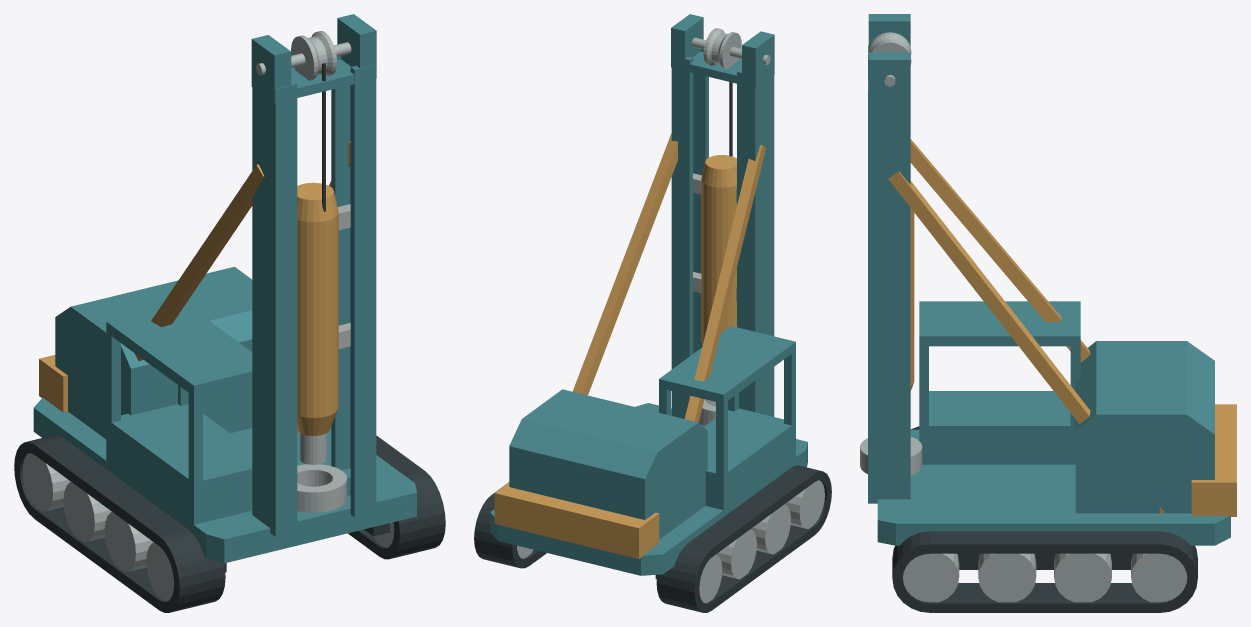
The picture shows the model from 3 angles, left to right: view 1: azimuth 30°, elevation 25°; view 2: azimuth 150°, elevation 25°; view 3: azimuth 270°, elevation 25°; orthographic projection. The views are drawn at different scales.
Visible parts, largest first — view 1: WholeSideCabShell, WholeChannelLeaderLeft, WholeChannelLeaderRight, WholeRearMachineryExterior, WholeContinuousTrackLeft, WholeLongCarrierDeck, WholeLongGuidedHammerExterior, WholeLeaderCrownFork, WholeContinuousTrackRight, WholeRearLeaderBraceLeft, WholeOpenLowerGuideCollar, WholeTrackRollerLeft1 (+6 smaller); view 2: WholeRearMachineryExterior, WholeSideCabShell, WholeChannelLeaderLeft, WholeChannelLeaderRight, WholeContinuousTrackLeft, WholeLowRearCounterbody, WholeLongCarrierDeck, WholeLongGuidedHammerExterior, WholeRearLeaderBraceRight, WholeRearLeaderBraceLeft, WholeLeaderCrownFork, WholeContinuousTrackRight (+5 smaller); view 3: WholeRearMachineryExterior, WholeSideCabShell, WholeChannelLeaderRight, WholeLongCarrierDeck, WholeContinuousTrackRight, WholeRearLeaderBraceRight, WholeRearLeaderBraceLeft, WholeLowRearCounterbody, WholeLeaderCrownFork, WholeTrackRollerRight1, WholeTrackRollerRight2, WholeTrackRollerRight0 (+5 smaller).
Part boxes in pixels (x1=…): WholeSideCabShell: x1=106, y1=304, x2=252, y2=524; WholeChannelLeaderLeft: x1=252, y1=81, x2=297, y2=536; WholeChannelLeaderRight: x1=331, y1=56, x2=376, y2=517; WholeRearMachineryExterior: x1=55, y1=266, x2=252, y2=439; WholeContinuousTrackLeft: x1=14, y1=435, x2=225, y2=612; WholeLongCarrierDeck: x1=33, y1=398, x2=416, y2=563; WholeLongGuidedHammerExterior: x1=297, y1=182, x2=338, y2=435; WholeLeaderCrownFork: x1=251, y1=14, x2=376, y2=103; WholeContinuousTrackRight: x1=348, y1=435, x2=445, y2=559; WholeRearLeaderBraceLeft: x1=134, y1=164, x2=264, y2=360; WholeOpenLowerGuideCollar: x1=297, y1=464, x2=346, y2=512; WholeTrackRollerLeft1: x1=104, y1=512, x2=153, y2=572; WholeRearMachineryExterior: x1=509, y1=389, x2=707, y2=539; WholeSideCabShell: x1=659, y1=326, x2=795, y2=512; WholeChannelLeaderLeft: x1=737, y1=69, x2=774, y2=416; WholeChannelLeaderRight: x1=671, y1=49, x2=708, y2=418; WholeContinuousTrackLeft: x1=656, y1=465, x2=831, y2=612; WholeLowRearCounterbody: x1=494, y1=482, x2=659, y2=558; WholeLongCarrierDeck: x1=490, y1=403, x2=807, y2=575; WholeLongGuidedHammerExterior: x1=701, y1=155, x2=736, y2=344; WholeRearLeaderBraceRight: x1=572, y1=133, x2=677, y2=395; WholeRearLeaderBraceLeft: x1=684, y1=145, x2=765, y2=422; WholeLeaderCrownFork: x1=671, y1=14, x2=774, y2=88; WholeContinuousTrackRight: x1=474, y1=482, x2=546, y2=568; WholeRearMachineryExterior: x1=1075, y1=341, x2=1214, y2=513; WholeSideCabShell: x1=919, y1=301, x2=1080, y2=464; WholeChannelLeaderRight: x1=868, y1=81, x2=910, y2=503; WholeLongCarrierDeck: x1=877, y1=429, x2=1230, y2=545; WholeContinuousTrackRight: x1=892, y1=531, x2=1197, y2=612; WholeRearLeaderBraceRight: x1=888, y1=171, x2=1164, y2=513; WholeRearLeaderBraceLeft: x1=910, y1=139, x2=1090, y2=362; WholeLowRearCounterbody: x1=1191, y1=404, x2=1236, y2=516; WholeLeaderCrownFork: x1=868, y1=14, x2=910, y2=104; WholeTrackRollerRight1: x1=978, y1=553, x2=1036, y2=602; WholeTrackRollerRight2: x1=1054, y1=553, x2=1111, y2=602; WholeTrackRollerRight0: x1=903, y1=553, x2=959, y2=602.
Bounding box in the file's own units: 2.32 × 4.66 × 3.09.
